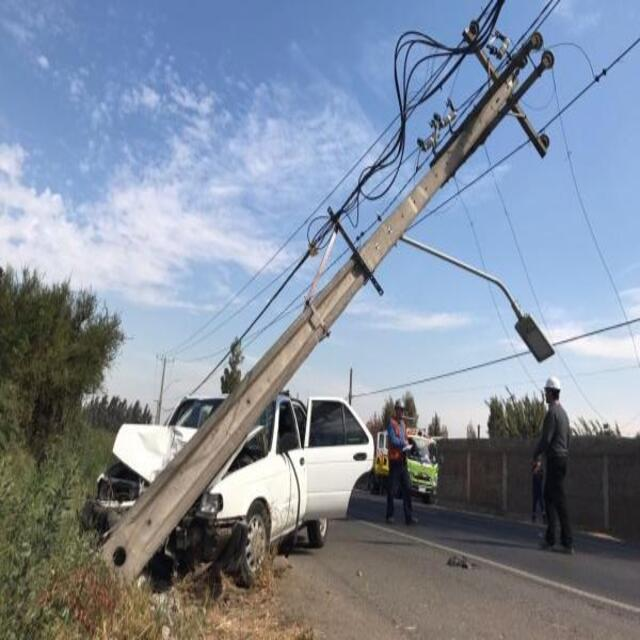Inclined Pole: (88, 14, 573, 579)
